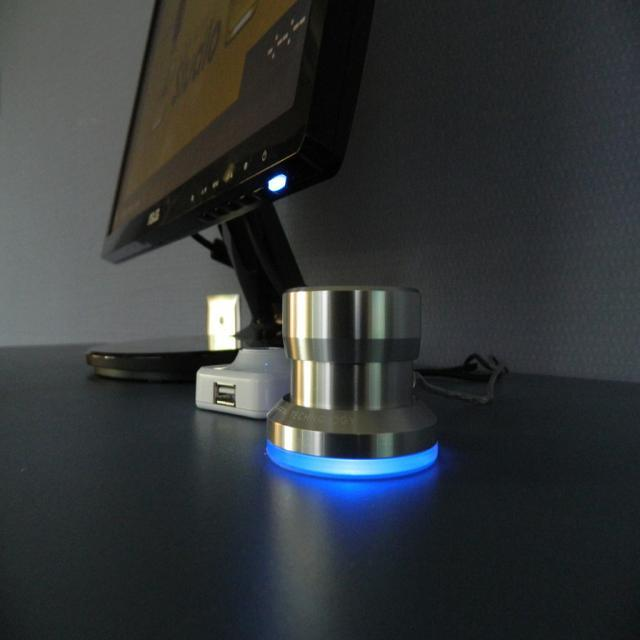others: (81, 1, 457, 492)
